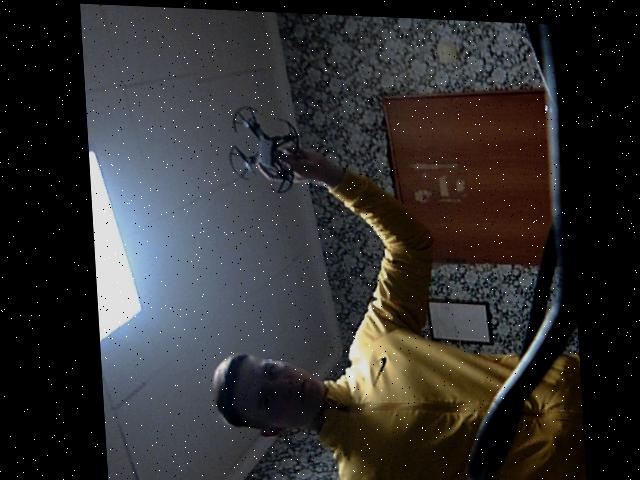drone: (206, 96, 311, 202)
